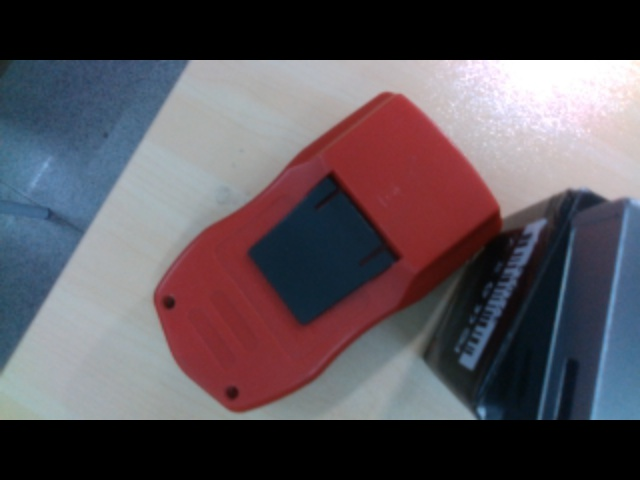Multimeter: (152, 92, 504, 414)
Screw holes: (160, 293, 177, 309), (222, 386, 240, 401)
